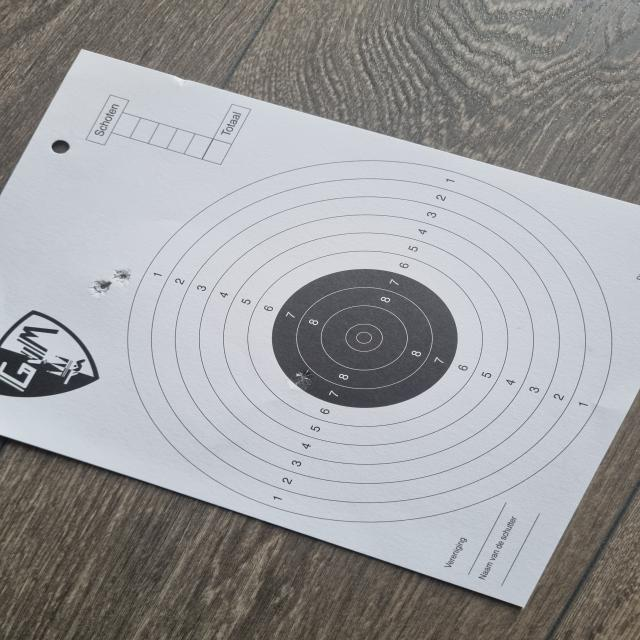8: (290, 366, 314, 388)
Black Contour: (272, 268, 458, 408)
Target: (126, 160, 614, 524)
hole: (90, 278, 112, 296), (113, 269, 131, 285)
